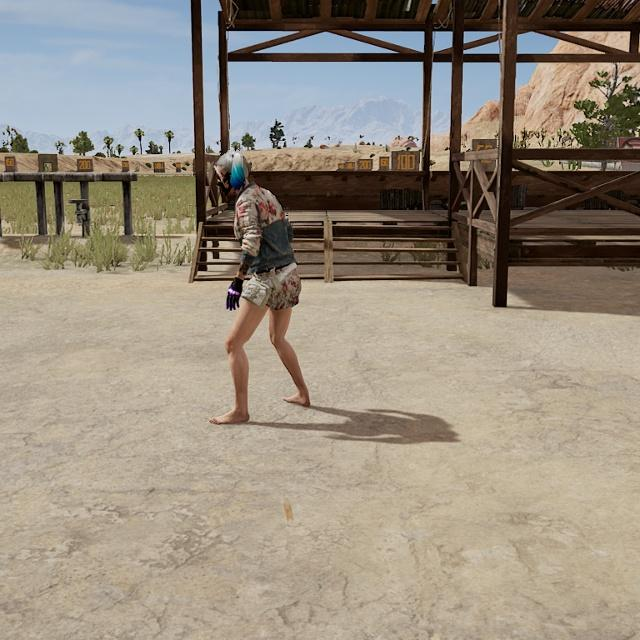head: (211, 149, 251, 197)
people: (210, 148, 310, 427)
